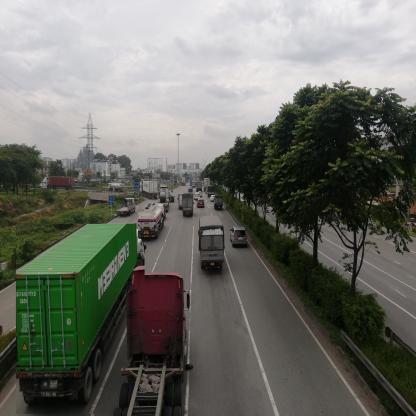car: (233, 227, 248, 249)
container: (17, 225, 146, 415), (118, 275, 190, 416), (39, 177, 76, 192), (141, 183, 159, 201)
truck: (200, 215, 224, 276), (139, 207, 166, 247), (183, 195, 194, 219), (110, 183, 127, 195), (216, 196, 223, 210)
